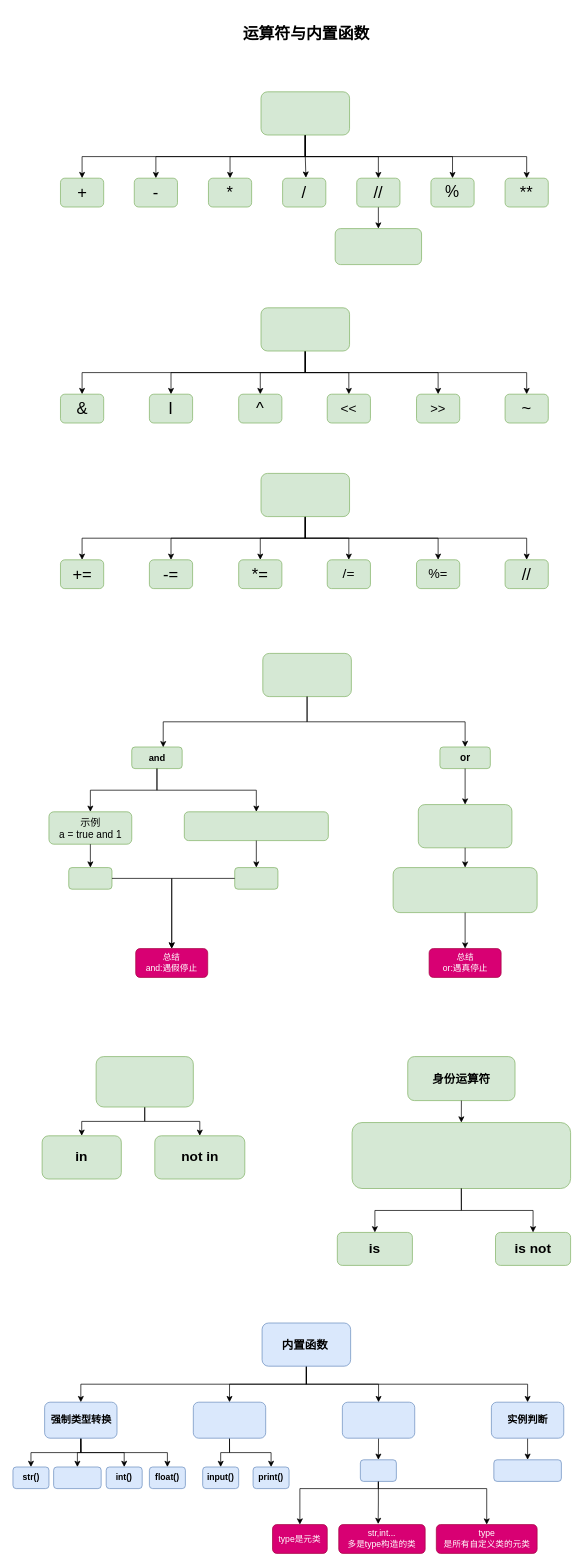
Image size: 583x1566. Some labels were removed from this diagram. The shapes that lost their labels are listed below. From the top down, each one's box as (x1, y1, x2, y2) in pixels, then its label:
(260, 91, 350, 135): 算术运算符
(334, 228, 422, 265): 向下取整，整除
(260, 307, 350, 351): 位运算符
(260, 473, 350, 517): 赋值运算符
(262, 653, 351, 697): 短路运算符
(184, 811, 328, 841): 示例 a = true and 1 and '' and 'abc'
(418, 804, 512, 848): 缺省示例 a = ?(任意值) i = a or 'abc'
(68, 867, 112, 889): a = 1
(234, 867, 278, 889): a = ''
(392, 867, 537, 913): 'abc'为缺省值 如果a为空，则i的值为'abc' 否则值为a
(95, 1056, 193, 1107): 成员运算符
(351, 1122, 571, 1189): 用于比较两个对象的内存地址 即它们是否是同一个对象。
(193, 1401, 266, 1438): 输入输出函数
(342, 1401, 415, 1438): 类型判断
(53, 1466, 101, 1489): boolean()
(360, 1459, 396, 1481): type()
(493, 1459, 561, 1481): isinstance()
